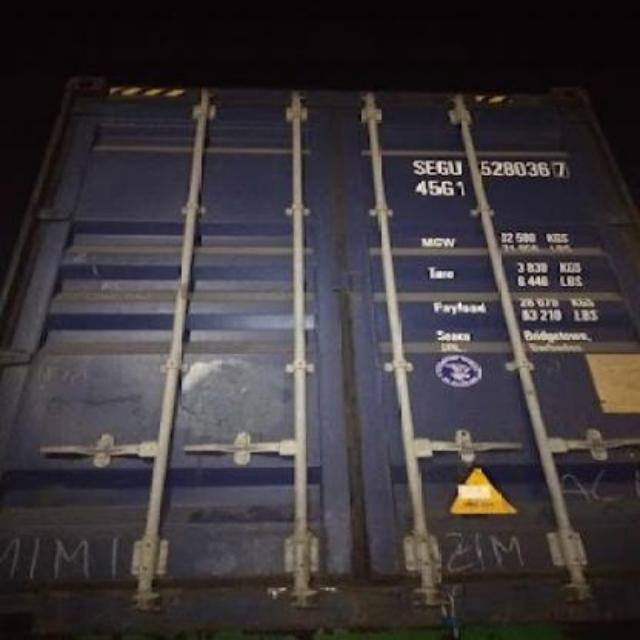0: (514, 153, 526, 183)
2: (490, 156, 502, 177)
3: (526, 154, 538, 176)
5: (480, 155, 492, 181)
6: (538, 156, 552, 182)
7: (552, 154, 570, 182)
8: (504, 150, 514, 180)
E: (422, 154, 438, 176)
G: (436, 158, 449, 178)
S: (411, 156, 424, 177)
U: (450, 156, 462, 177)
